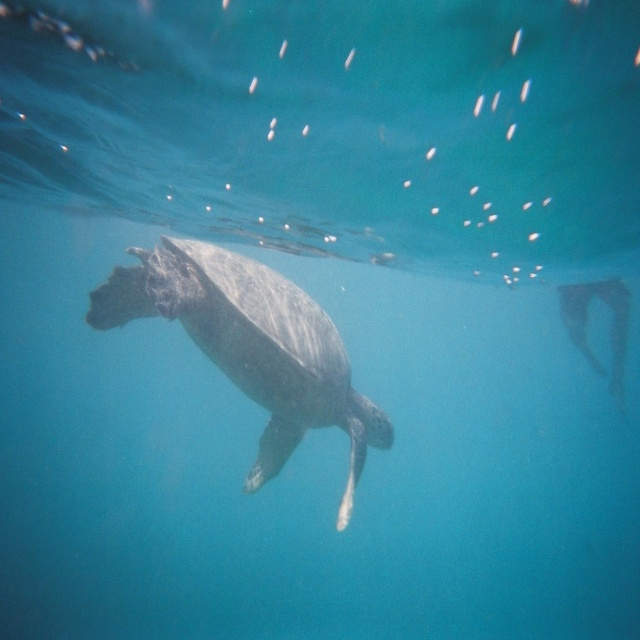Sea turtle: (85, 232, 398, 533)
